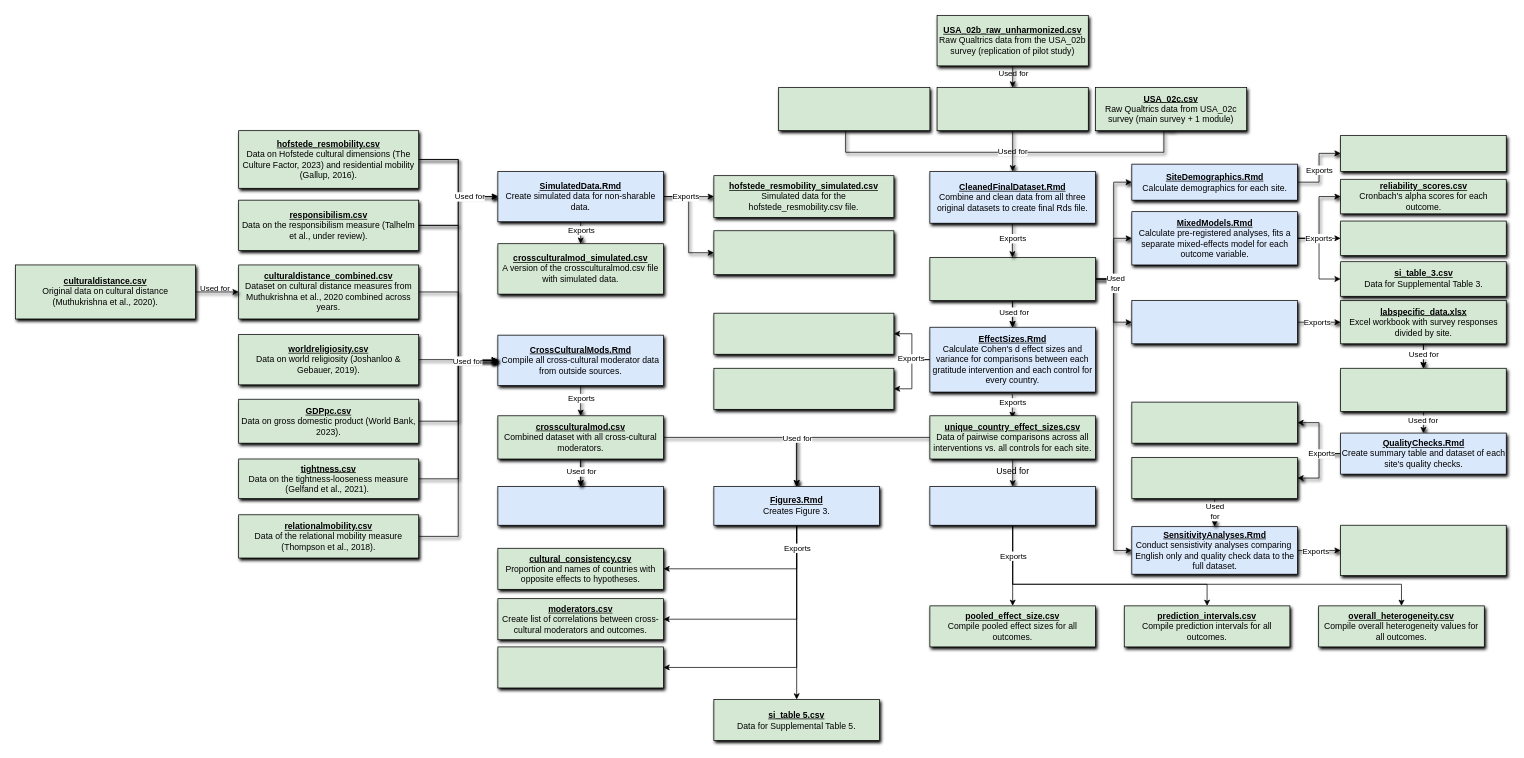
The diagram is 1524 pixels wide and 758 high, and some of its shapes have lost their labels. The centre of each missing label's shape, as x and y in pixels:
"country_effectsizes.csv Compile pooled effect sizes for all countries." belongs at pixel 804 389.
"Figure1.Rmd Creates Figure 1." belongs at pixel 581 506.
"Figure2.Rmd Creates Figure 2." belongs at pixel 1013 506.
"globalgratitude_final.Rds Raw Qualtrics data from main survey" belongs at pixel 854 110.
"globalgratitude_final_cleaned.Rds Final dataset used for all data analysis." belongs at pixel 1013 280.
"intervention_effectsizes.csv Compile pooled effect sizes for all practices." belongs at pixel 804 334.
"LabSpecificData.Rmd Create Excel workbook with all data for quality checks." belongs at pixel 1215 323.
"QC_globalgratitude_final_cleaned.Rds Dataset with problematic data removed." belongs at pixel 1215 479.
"qualitychecks.xlxs Excel workbook with completed quality checks." belongs at pixel 1424 391.
"qualitychecks_summary.xlsx Summary table of quality checks." belongs at pixel 1215 423.
"responsibilism_simulated.csv Simulated data for the responsibilism.csv file." belongs at pixel 804 253.
"si_regression_ouput.csv Data for Supplemental Information." belongs at pixel 1424 239.
"si_table 4.csv Data for Supplemental Table 4." belongs at pixel 581 668.
"si_table_1.csv Data for Supplemental Table 1." belongs at pixel 1424 154.
"si_table_6.csv Data for Supplemental Table 6." belongs at pixel 1424 551.
"USA_02b_raw_harmonized.csv Harmonized to match with global_gratitude_final.Rds" belongs at pixel 1013 110.
